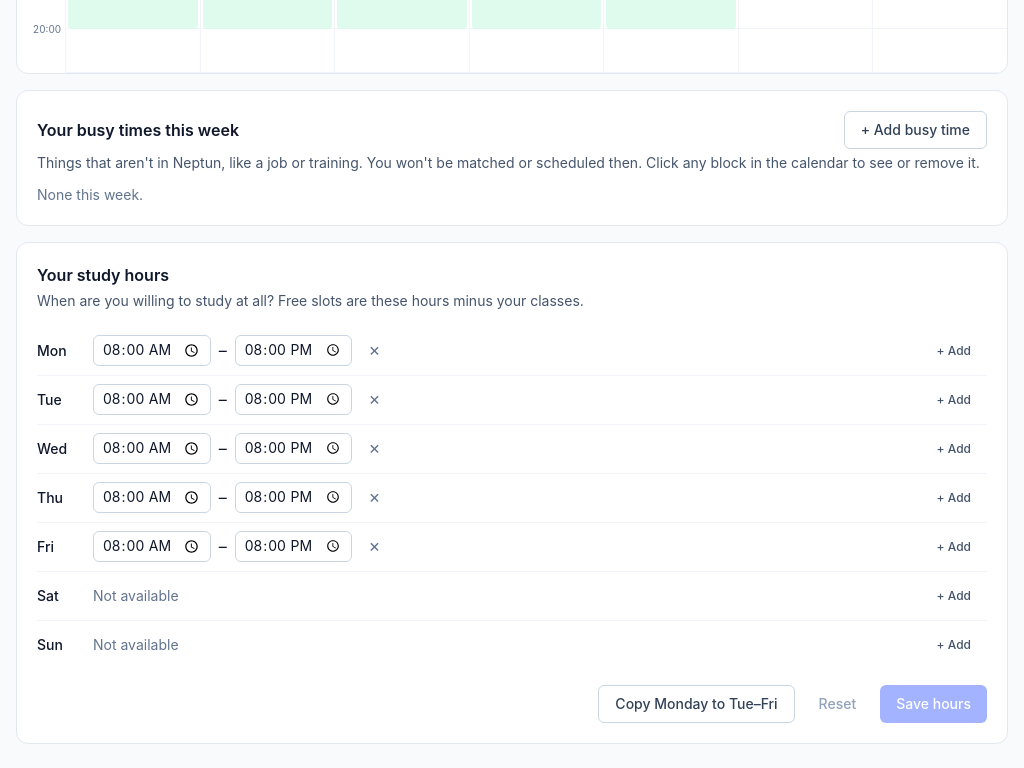
Study hours editor › blocks saving invalid or overlapping ranges
(page scrolled)
Click the button with aria-label "Add hours on Tuesday" at (954, 400), box [920,384,987,416]
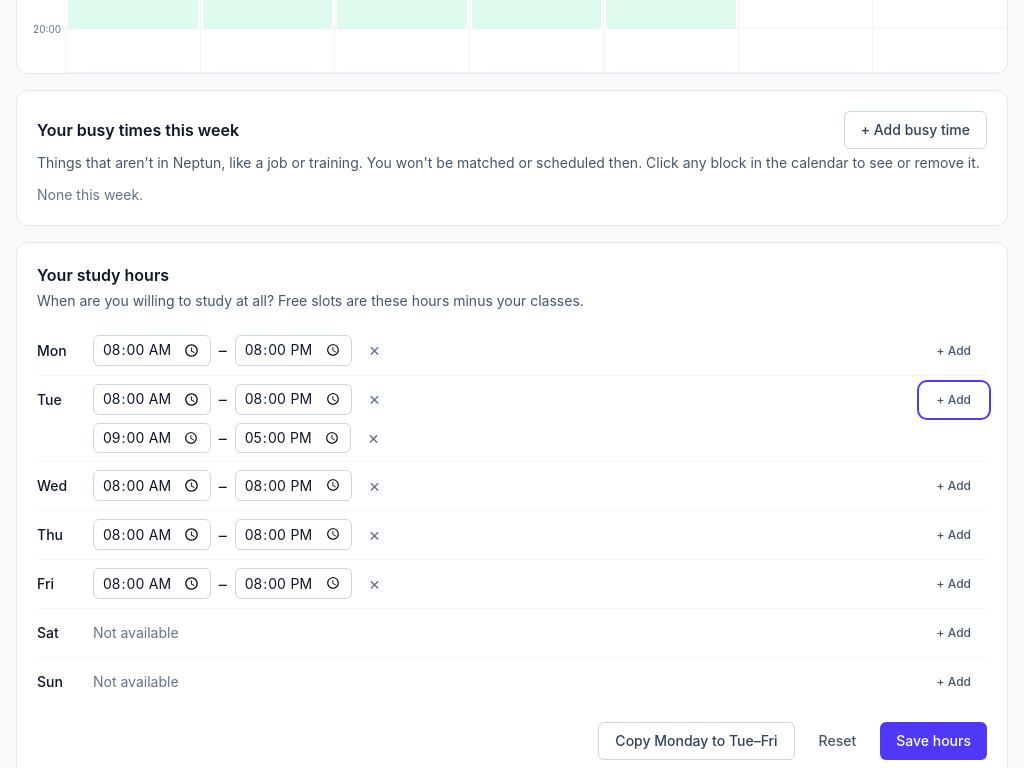
Replace the text in the time field named "Wednesday range 1 end" with "07:00" at (294, 486), box [235,470,352,501]
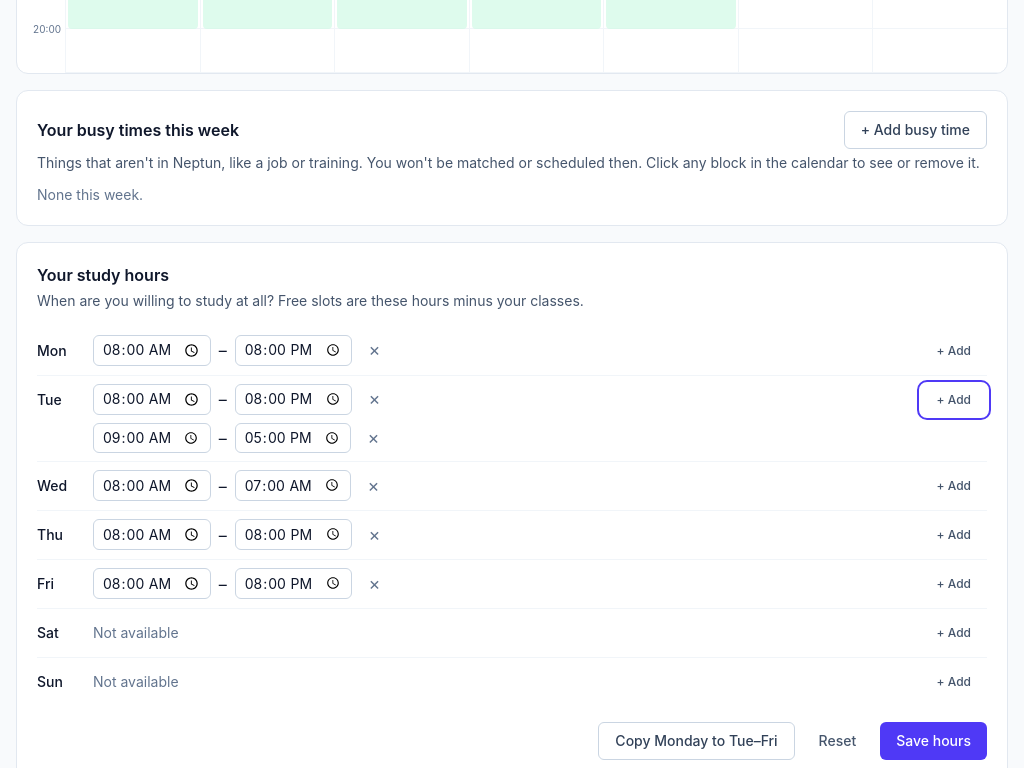
Click the button "Save hours" at (934, 741), box [880,722,987,760]
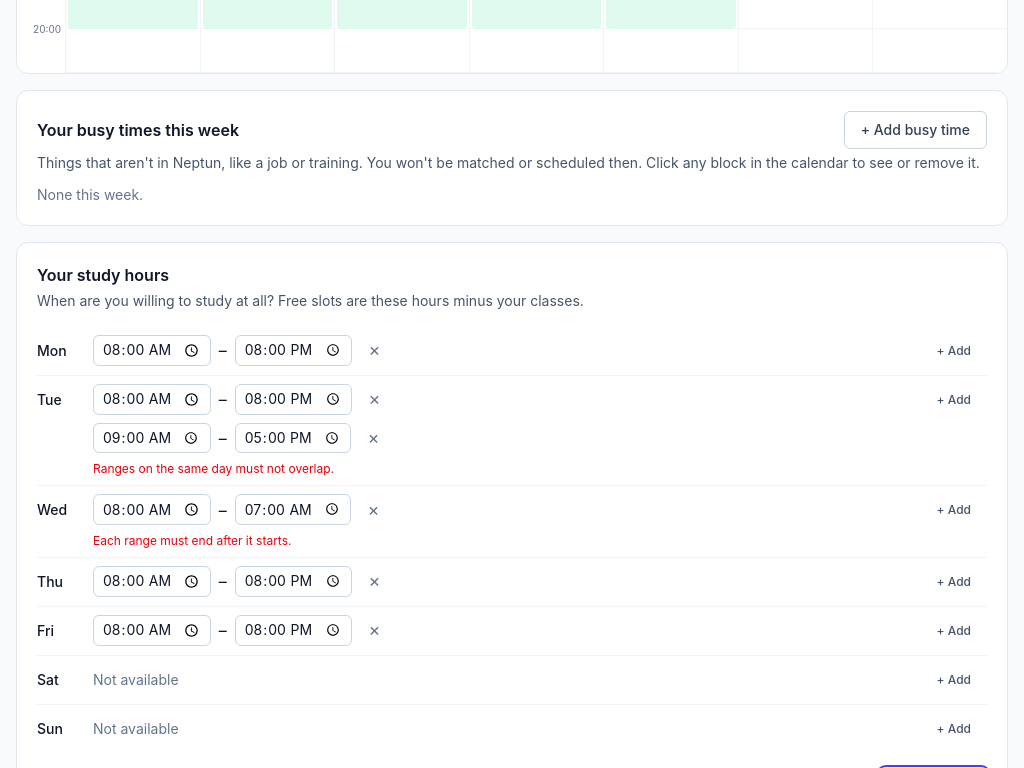
Expected: the message "Ranges on the same day must not overlap." is shown, [93,461,334,476]
Expected: the message "Each range must end after it starts." is shown, [93,533,292,548]
